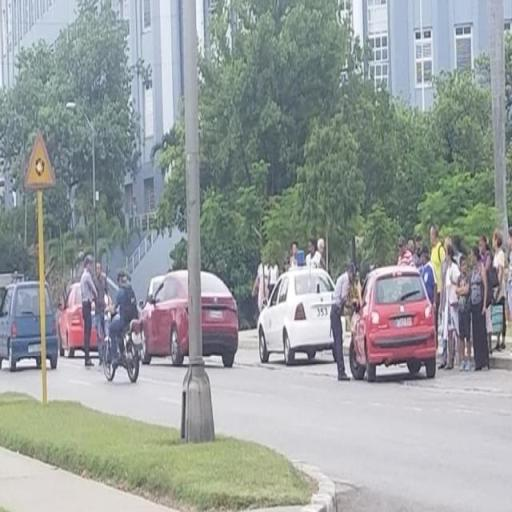person: (329, 257, 360, 384), (107, 269, 137, 371), (468, 249, 492, 371), (442, 236, 461, 372), (425, 224, 444, 344), (492, 232, 509, 353), (82, 256, 99, 372), (481, 232, 496, 355), (458, 257, 474, 372), (95, 256, 109, 366)
